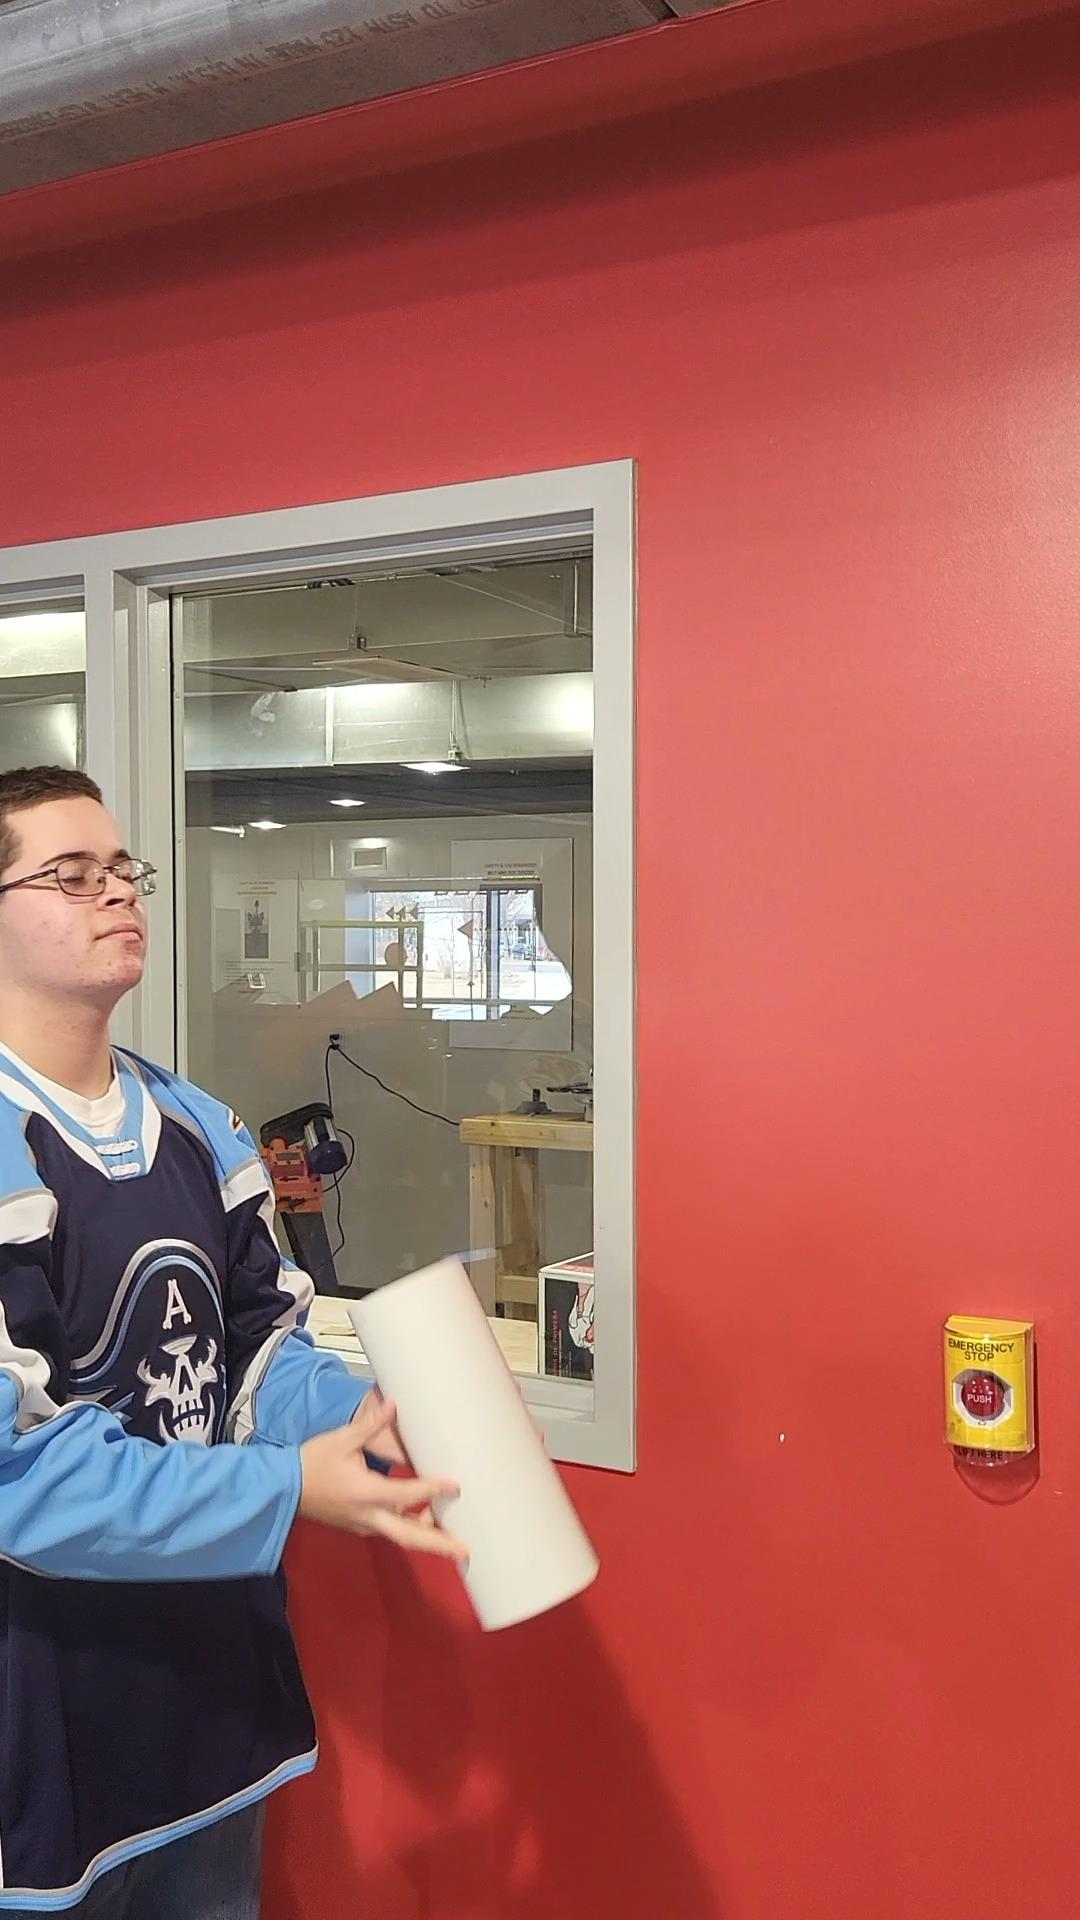coral: (347, 1253, 596, 1631)
